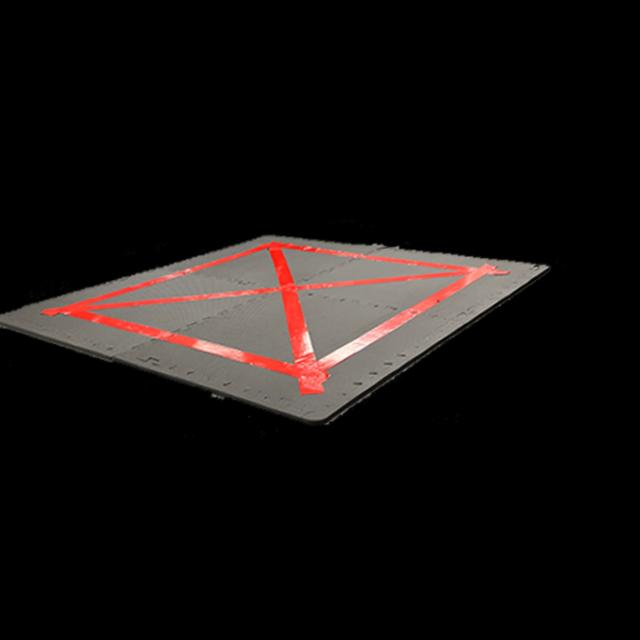landingPads: (0, 223, 567, 449)
